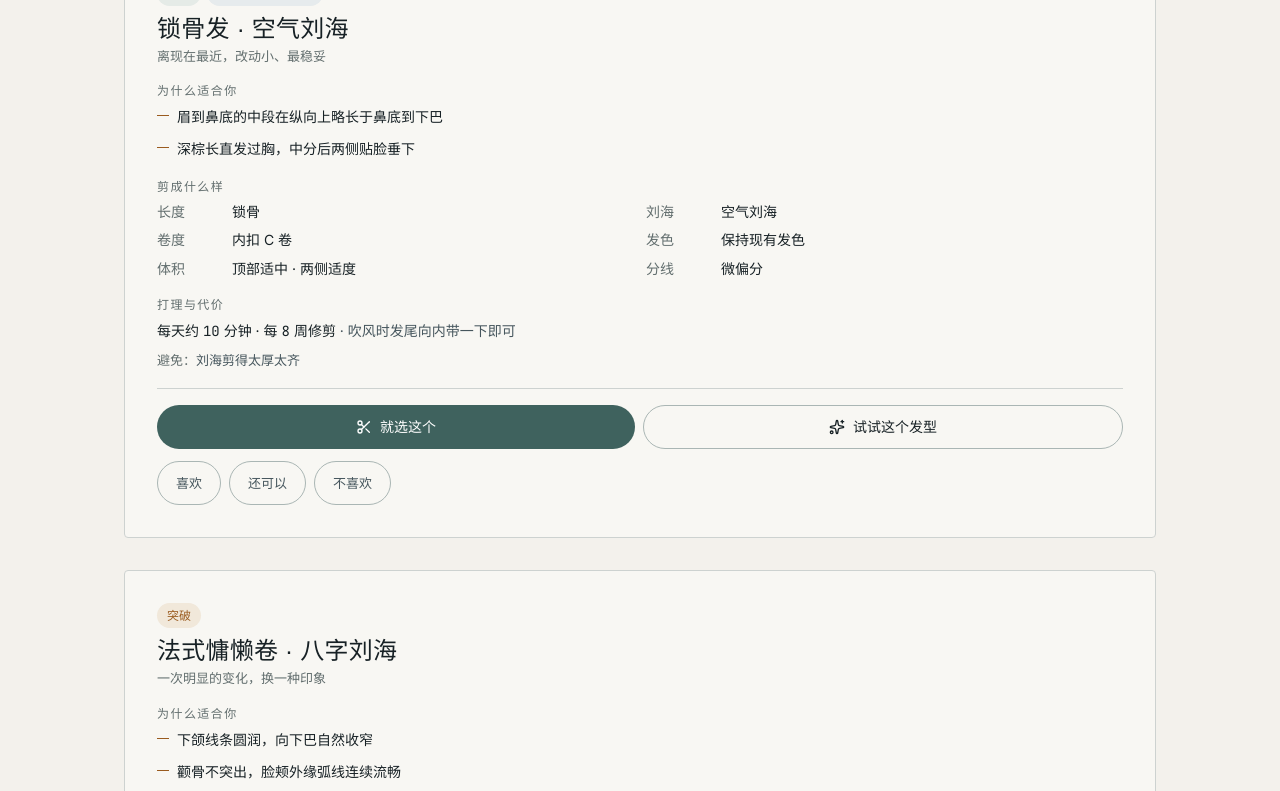
Test: HairPage (V2.1 §5.1–5.3) › 就选这个 opens a concise hairstylist brief with copy and save
(page scrolled)
Click the button "就选这个": (396, 427) [157,405,635,449]
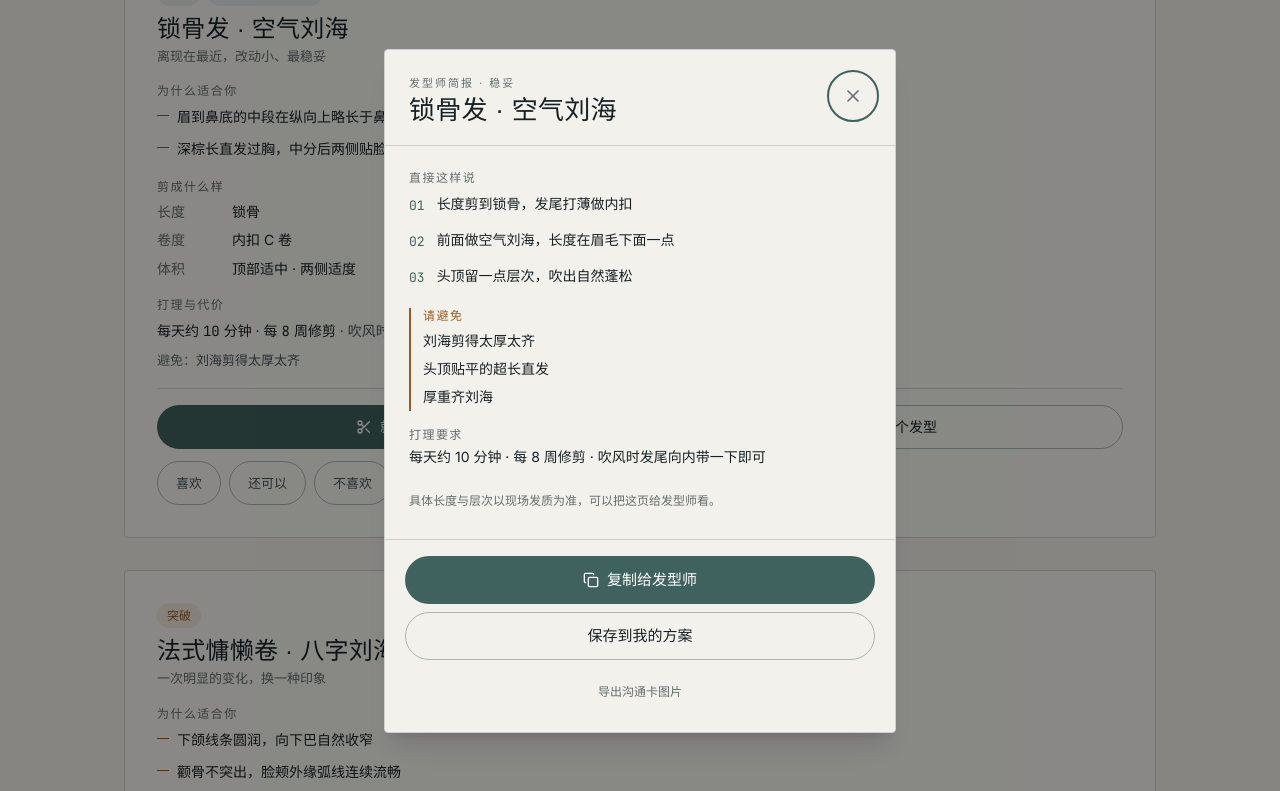
Expected: the text "长度剪到锁骨，发尾打薄做内扣" is shown, [437,195,633,212]
Expected: the text "前面做空气刘海，长度在眉毛下面一点" is shown, [437,231,675,248]
Expected: the text "头顶留一点层次，吹出自然蓬松" is shown, [437,267,633,284]
Click the button "保存到我的方案": (640, 636) [405,612,875,660]
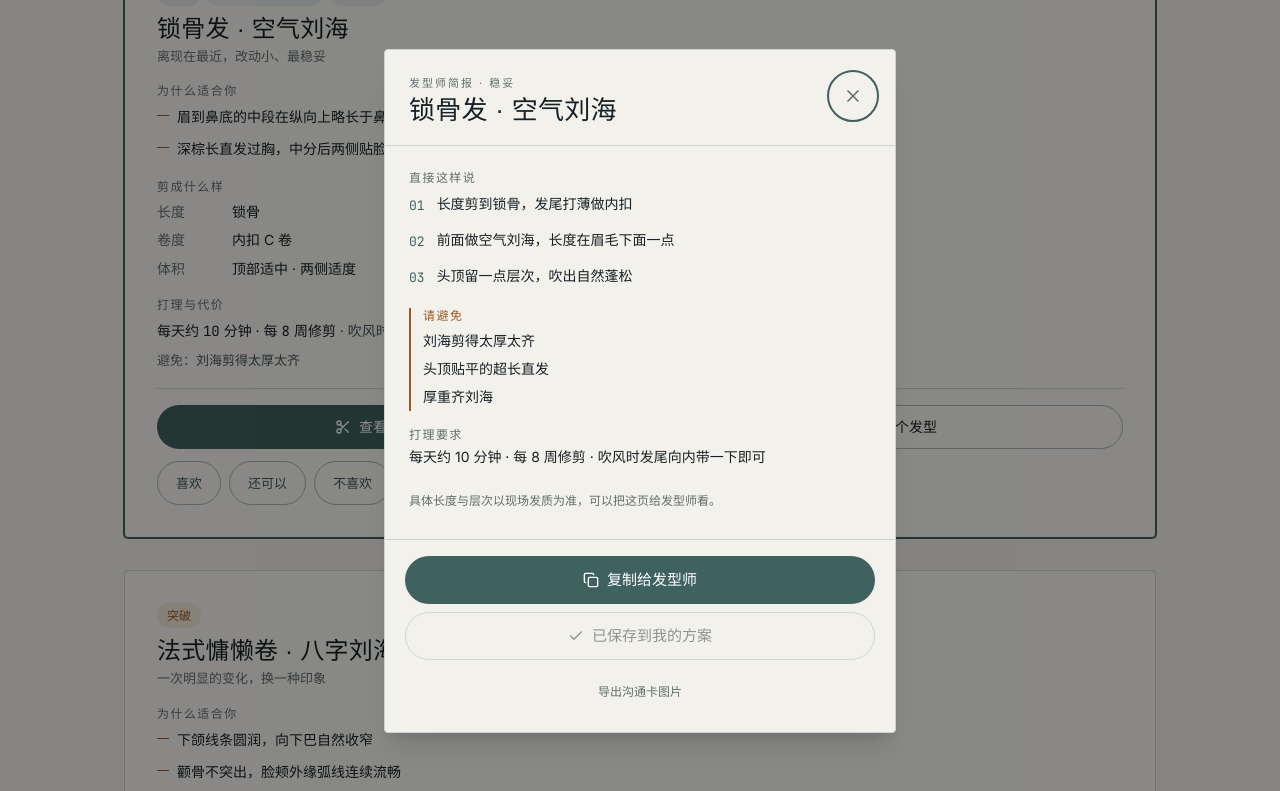
Press Escape
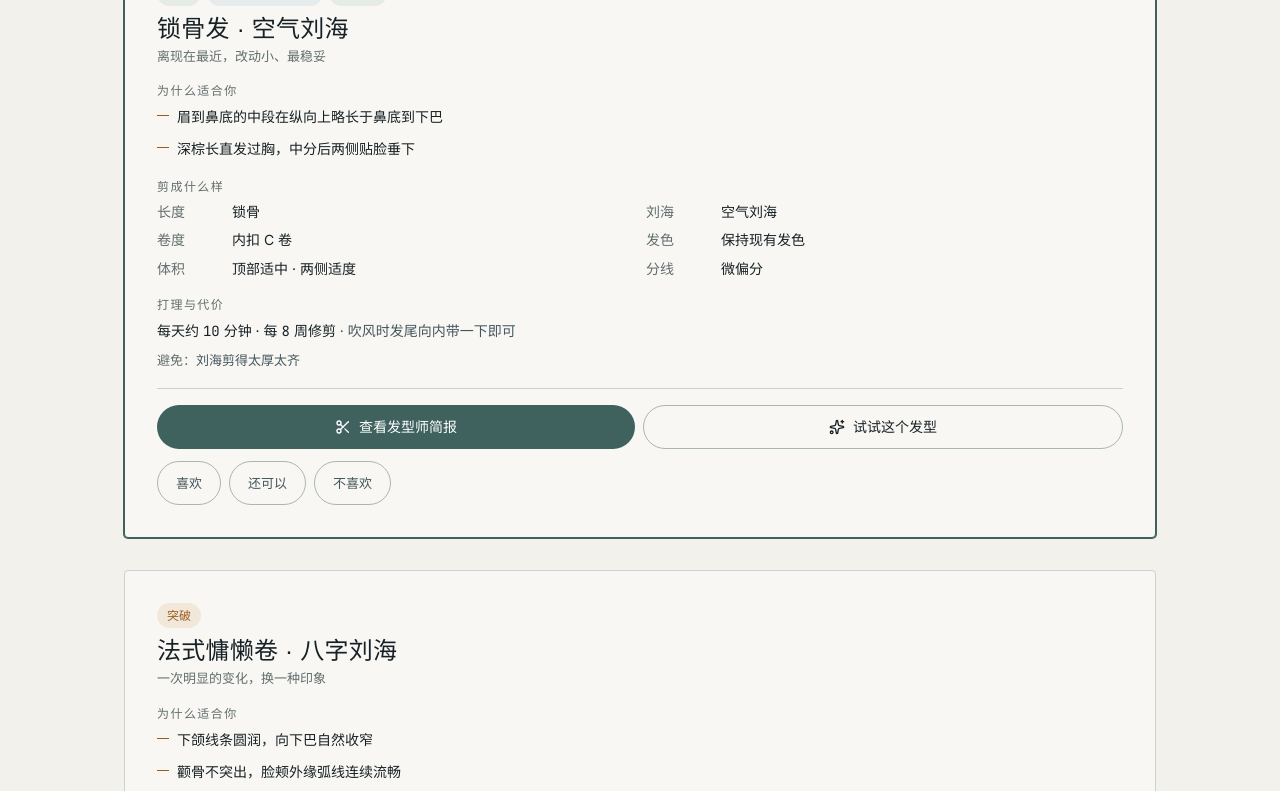
Expected: the dialog is gone
